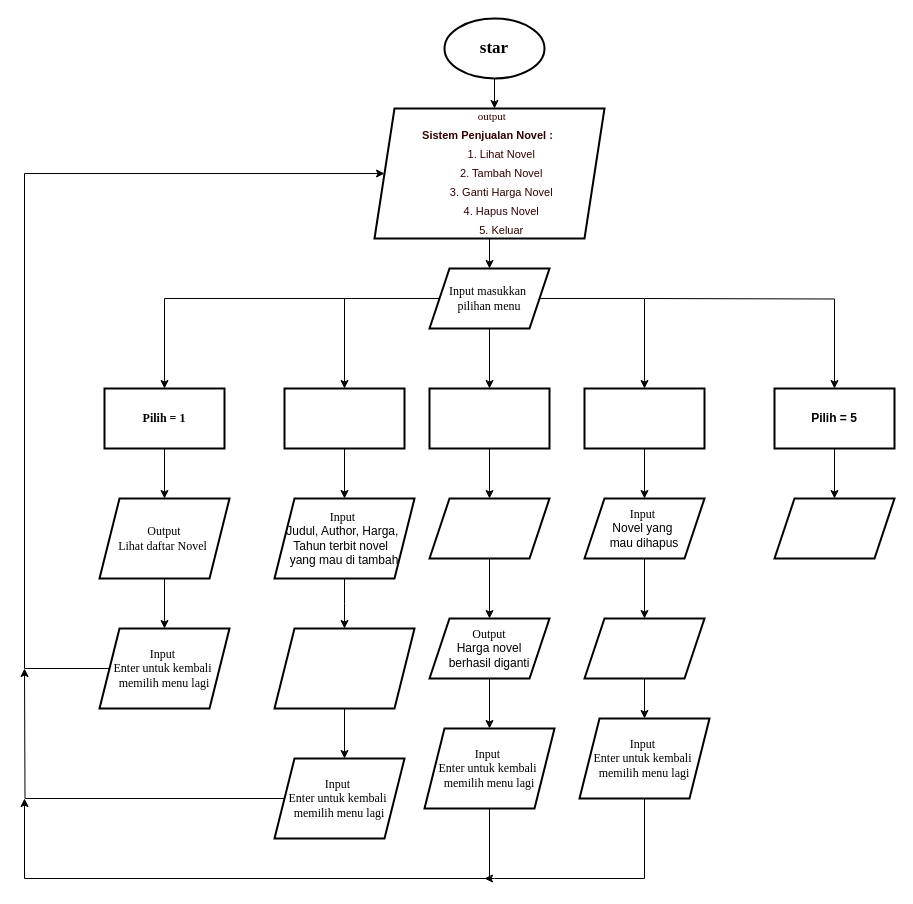
This 913x904 diagram has some shape labels left out. Each missing label, with the centre of its shape:
Input Harga novel yang mau diganti: [489,528]
Output Keluar: [834,528]
Output Novel berhasil di tambah: [344,668]
Output Novel berhasil dihapus: [644,648]
Pilih = 2: [344,418]
Pilih = 3: [489,418]
Pilih = 4: [644,418]
